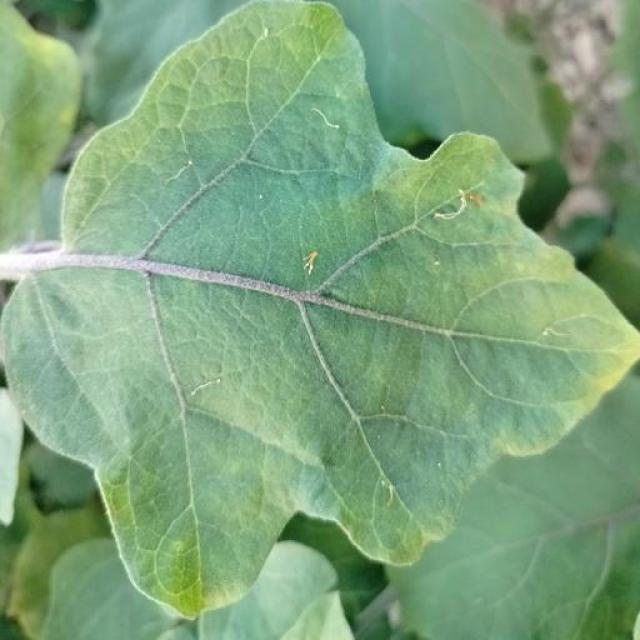leaf_spot: (165, 574, 235, 619), (594, 326, 618, 402)
